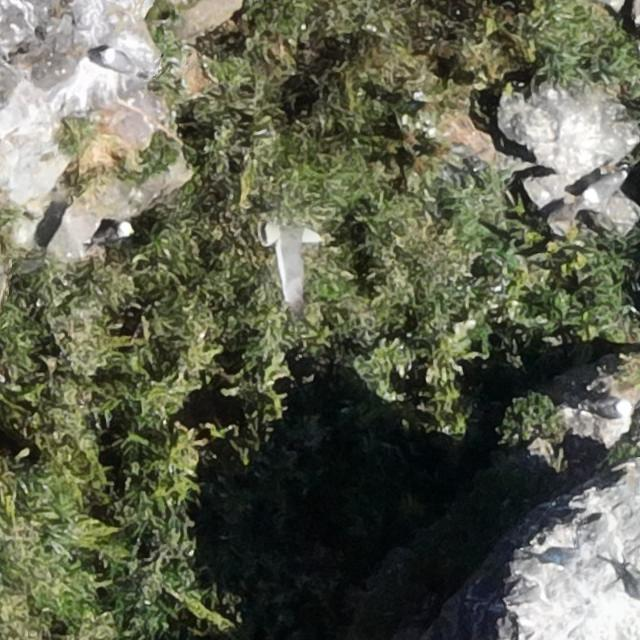F: (263, 206, 325, 286)
umineko: (582, 172, 628, 203), (102, 51, 132, 71), (106, 222, 132, 241), (592, 401, 624, 415)
